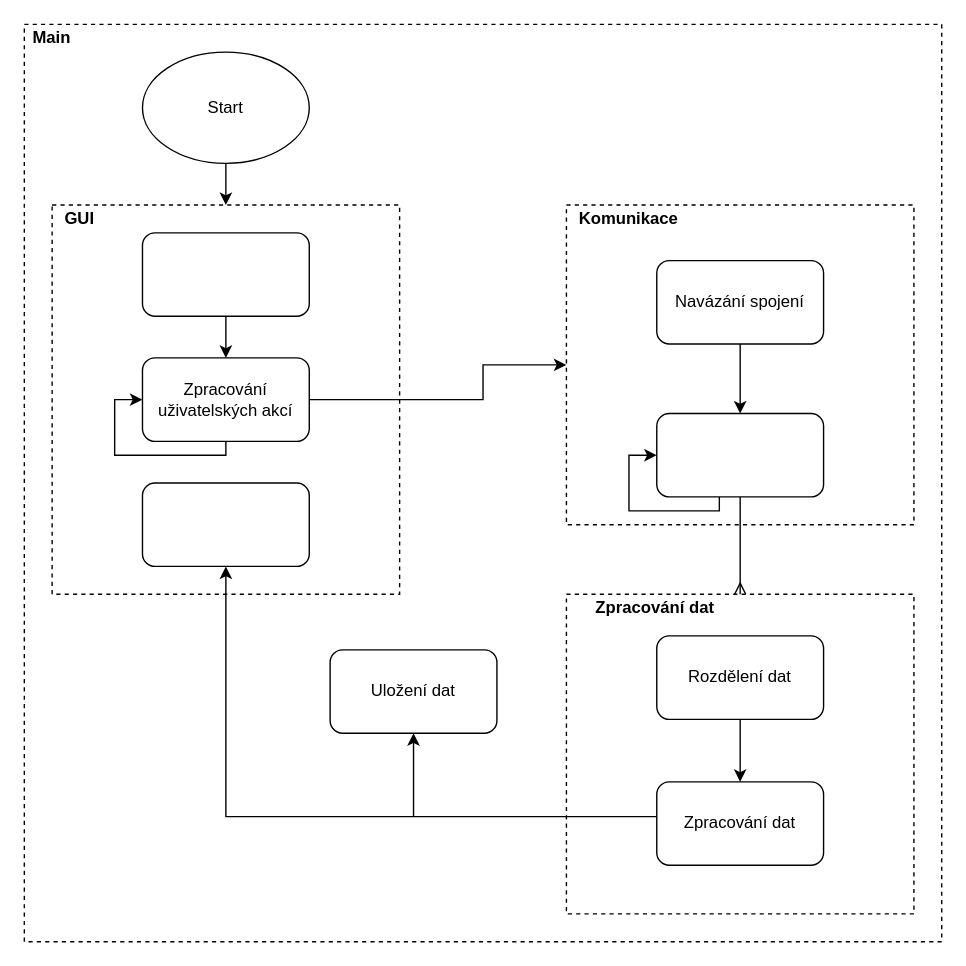
This 966x966 diagram has some shape labels left out. The shapes that lost their labels are listed below. From the top down, each one's centre as x and y in pixels, then its label:
the point at 225,273: Příprava uživatelského prostředí
the point at 739,454: Přijmutí dat
the point at 225,524: Aktualizace zobrazení
